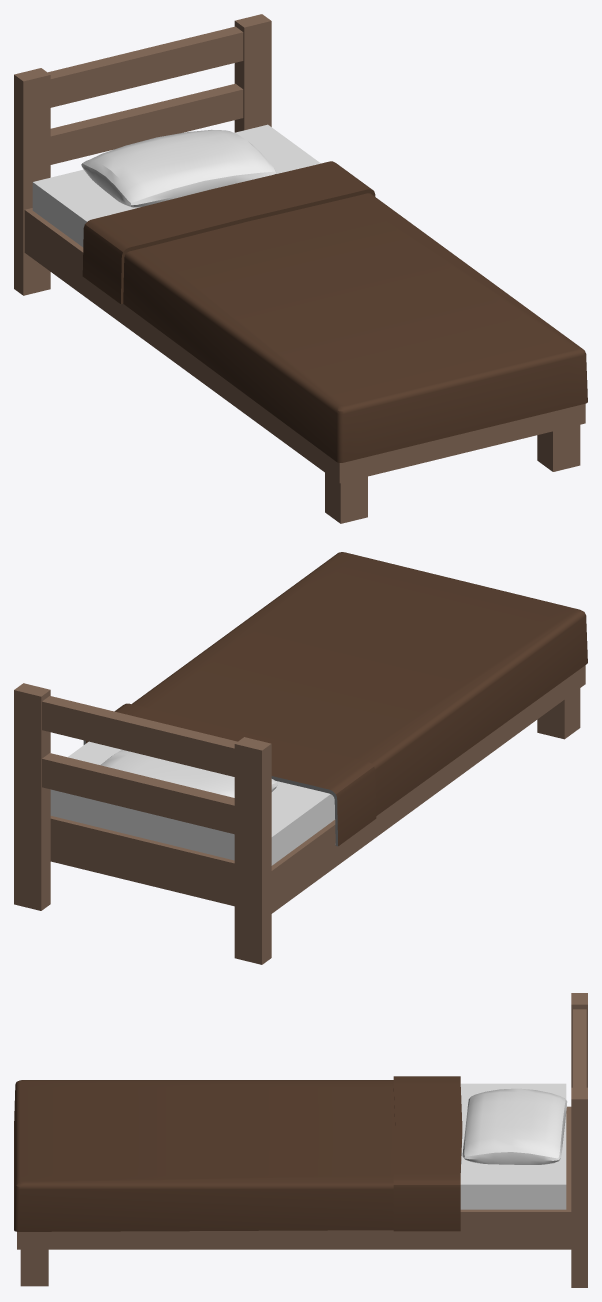
Rendered from Bed5_C2.fbx.
3 views of the same model, one above another, from view 1: azimuth 30°, elevation 25°; view 2: azimuth 150°, elevation 25°; view 3: azimuth 270°, elevation 25° (orthographic). The views are drawn at different scales.
Visible parts, largest first — view 1: Bed5_C2; view 2: Bed5_C2; view 3: Bed5_C2.
Part boxes in pixels (left/top/right/bottom): Bed5_C2: left=14, top=14, right=587, bottom=523; Bed5_C2: left=14, top=552, right=587, bottom=964; Bed5_C2: left=14, top=993, right=587, bottom=1287.
Bounding box in the file's own units: 93.54 × 75 × 207.
